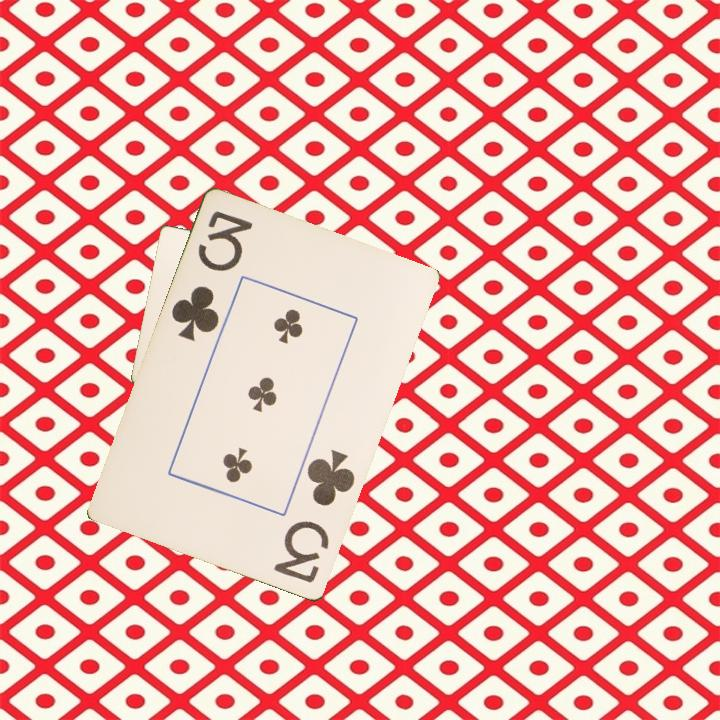3c: (270, 446, 358, 587), (167, 207, 256, 345)
